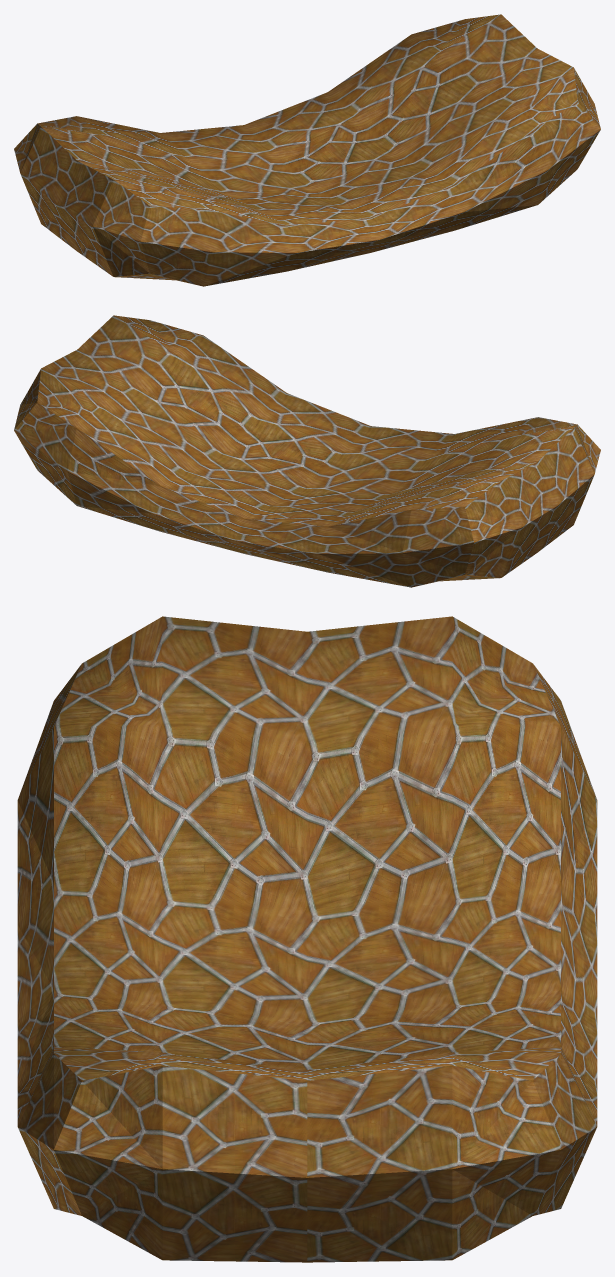
The model's file is taravel.obj.
3 views of the same model, one above another, from view 1: azimuth 30°, elevation 25°; view 2: azimuth 150°, elevation 25°; view 3: azimuth 270°, elevation 25° (orthographic). The views are drawn at different scales.
Bounding box in the file's own units: 60 × 13.25 × 30.
Materials: 1 (1 with a texture image).
